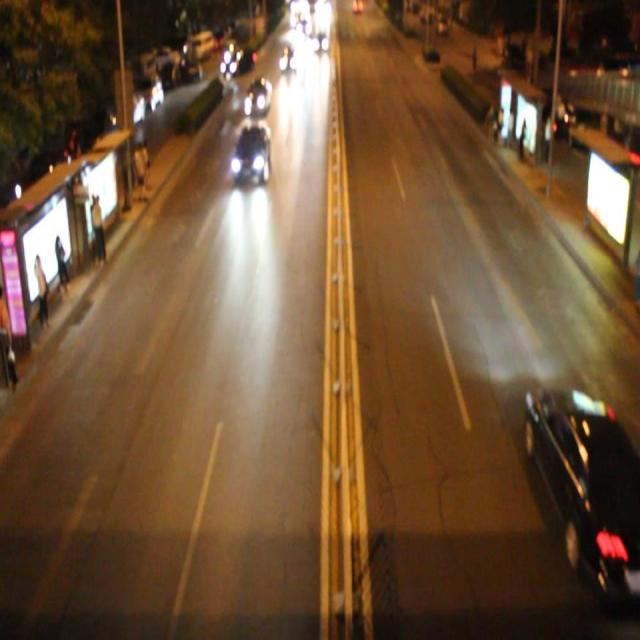car: (526, 388, 640, 592), (233, 120, 272, 186), (244, 76, 272, 121)
